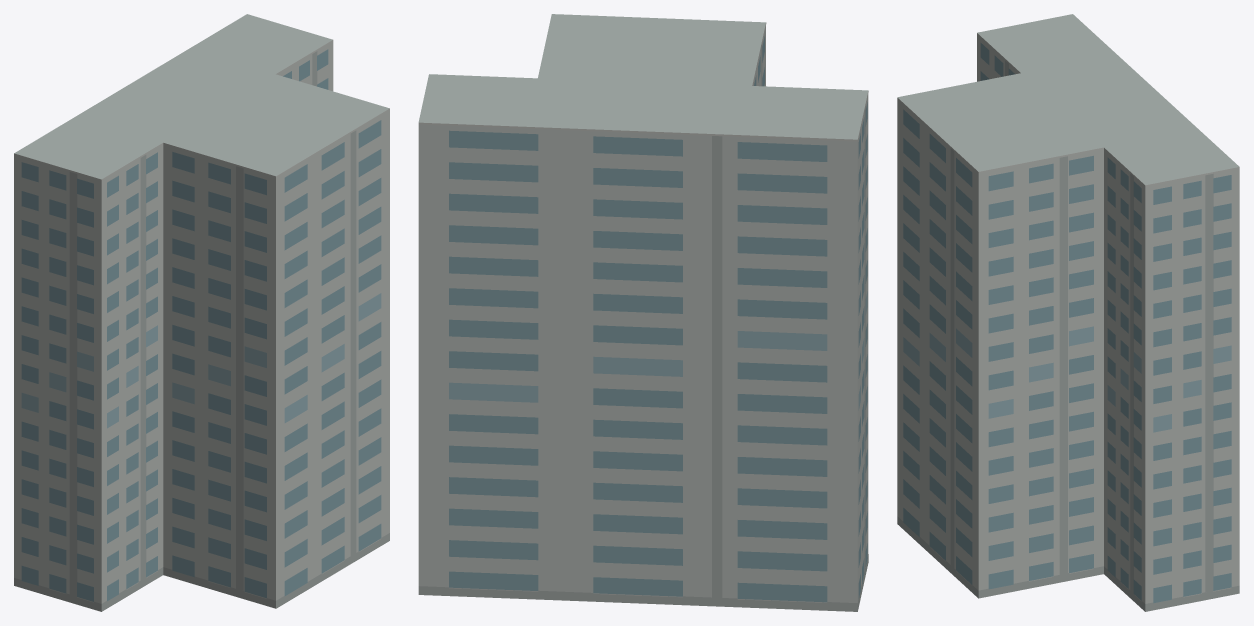
Rendered from residential-62ed18f9-b95f-4d14-a2ed-9b07f5018887.glb.
The picture shows the model from 3 angles, left to right: view 1: azimuth 30°, elevation 25°; view 2: azimuth 150°, elevation 25°; view 3: azimuth 270°, elevation 25°; orthographic projection. The views are drawn at different scales.
Parts seen in each view (by area): view 1: residential-62ed18f9-b95f-4d14-a2ed-9b07f5018887.tmp; view 2: residential-62ed18f9-b95f-4d14-a2ed-9b07f5018887.tmp; view 3: residential-62ed18f9-b95f-4d14-a2ed-9b07f5018887.tmp.
Boxes of the visible parts, x1,y1,x2,y2 form: residential-62ed18f9-b95f-4d14-a2ed-9b07f5018887.tmp: (14, 14, 389, 611); residential-62ed18f9-b95f-4d14-a2ed-9b07f5018887.tmp: (418, 14, 868, 611); residential-62ed18f9-b95f-4d14-a2ed-9b07f5018887.tmp: (897, 14, 1239, 611).
Size of the model in its own units: 52.55 by 61 by 44.41.
